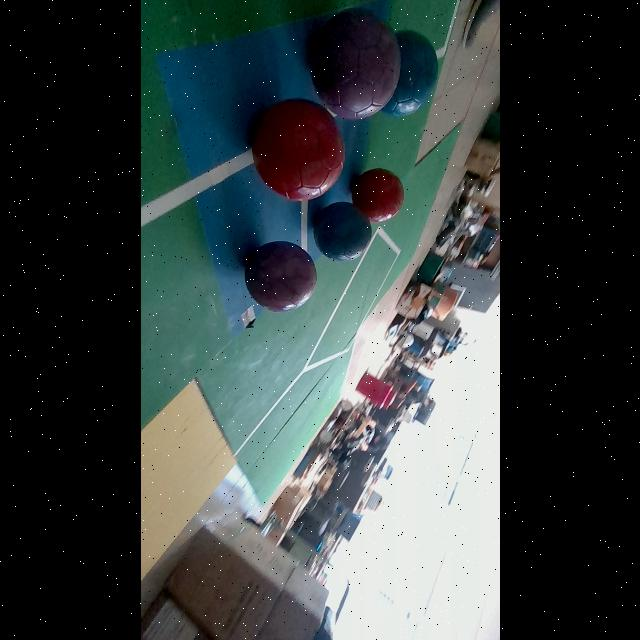B: (382, 31, 438, 117), (315, 202, 372, 260)
P: (311, 7, 400, 119), (244, 241, 317, 312)
R: (252, 98, 344, 201), (351, 168, 404, 224)
